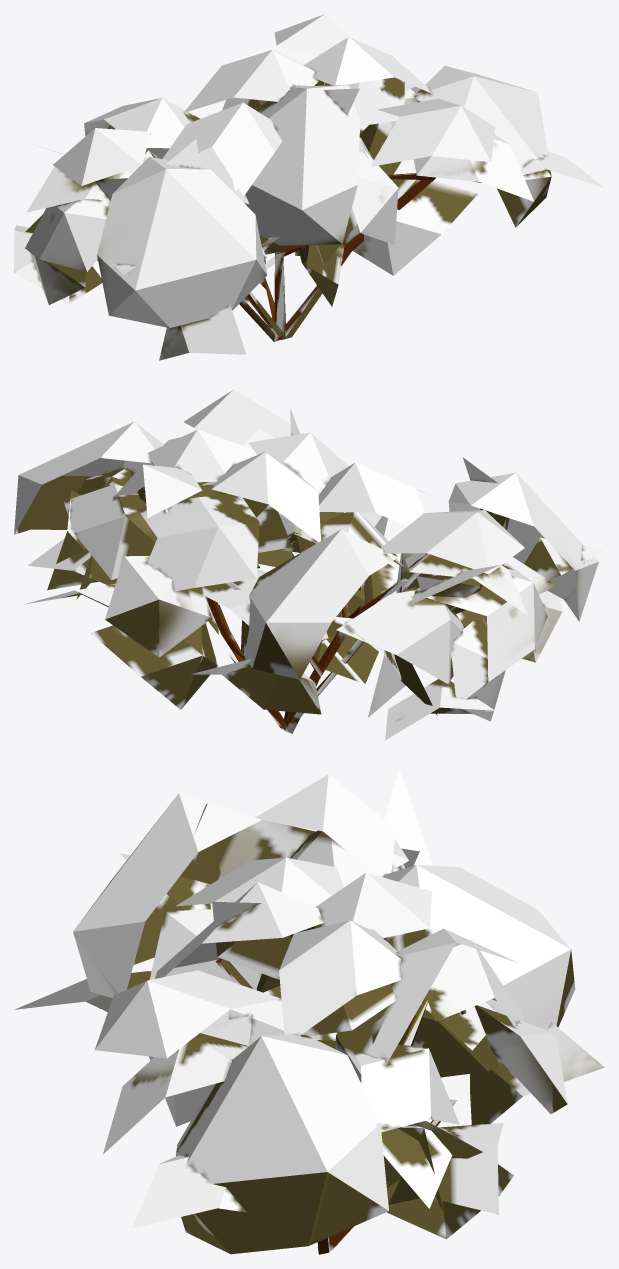
The model's file is bush_big.glb.
3 renders of one model, top to bottom at view 1: azimuth 30°, elevation 25°; view 2: azimuth 150°, elevation 25°; view 3: azimuth 270°, elevation 25°, orthographic. The views are drawn at different scales.
Parts seen in each view (by area): view 1: Bush_0.001; view 2: Bush_0.001; view 3: Bush_0.001.
Part boxes in pixels (left/top/right/bottom): Bush_0.001: left=14, top=14, right=603, bottom=360; Bush_0.001: left=14, top=389, right=604, bottom=740; Bush_0.001: left=15, top=769, right=604, bottom=1254.
Bounding box in the file's own units: 13.95 × 7.43 × 10.32.
1 material, 1 textured.
